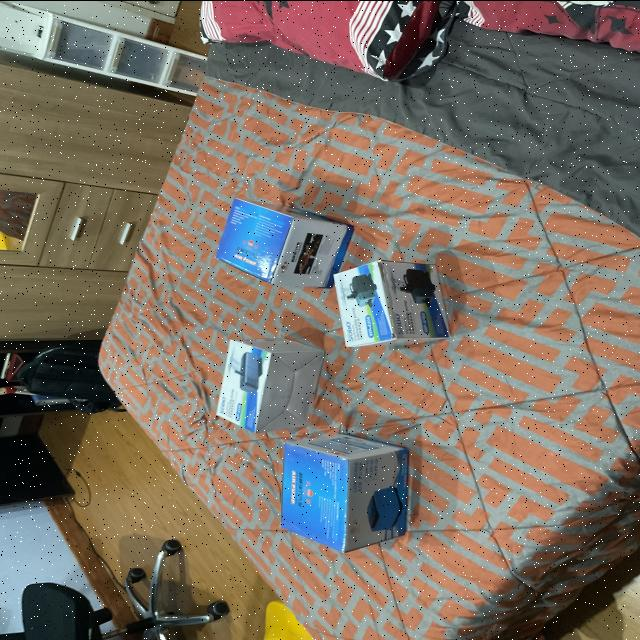SOBO_WP_4200: (322, 244, 449, 360), (192, 332, 328, 434)
YAMANO_LPP_20: (266, 429, 429, 557), (196, 188, 356, 294)
